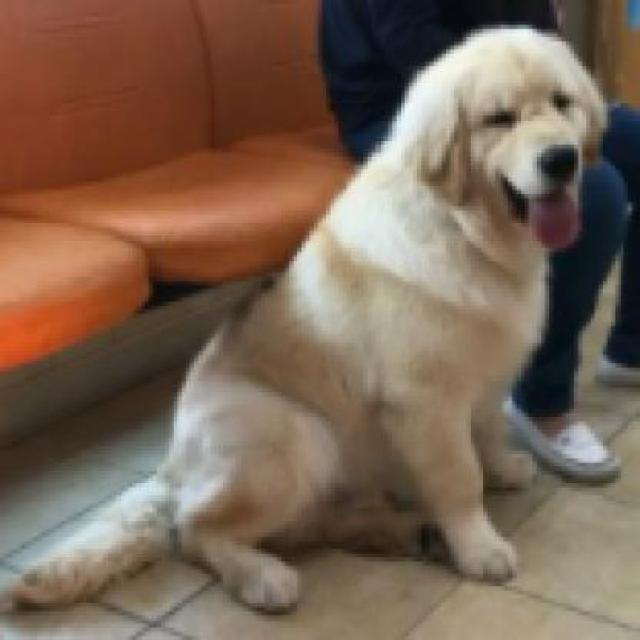Dog: (0, 21, 615, 623)
